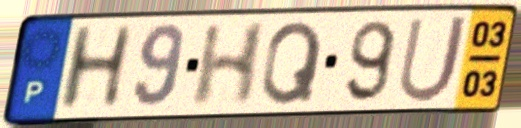9: (130, 20, 187, 113), (343, 18, 399, 104)
H: (54, 22, 139, 115), (187, 20, 271, 111)
Q: (259, 18, 326, 108)
U: (394, 12, 472, 106)
